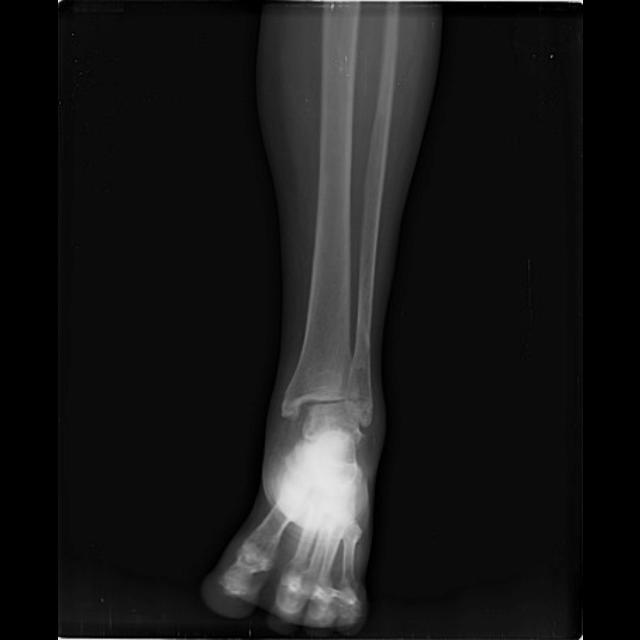fractured: (357, 285, 370, 347)
